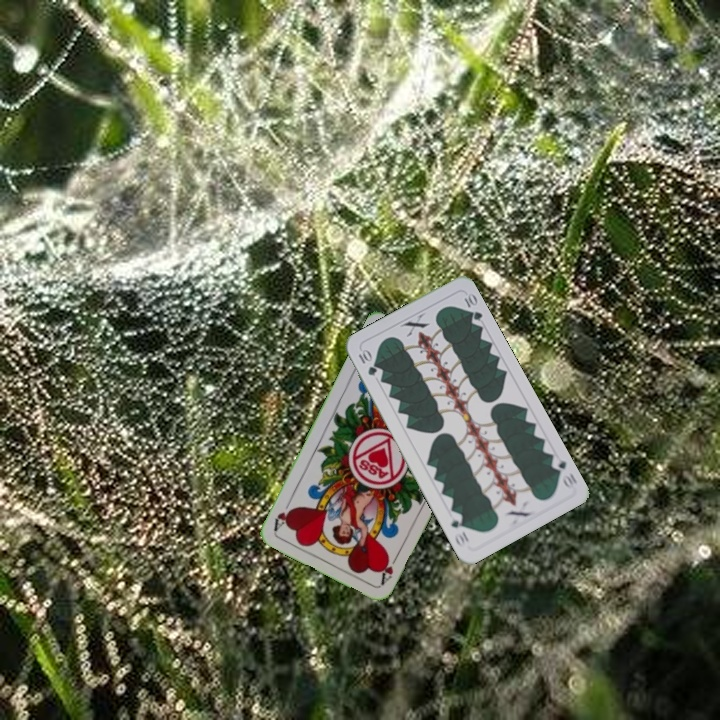G10: (547, 452, 580, 492), (354, 345, 380, 378)
HA: (376, 549, 402, 587)
